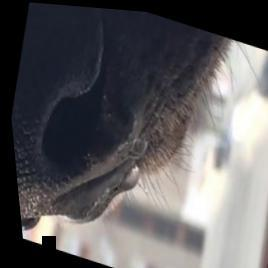nasal_discharge: (100, 126, 155, 197)
